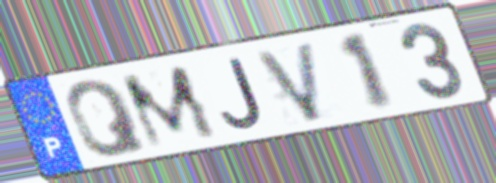1: (337, 29, 396, 115)
3: (399, 19, 466, 102)
J: (219, 55, 268, 132)
M: (117, 61, 223, 153)
Q: (62, 76, 152, 160)
V: (251, 38, 327, 126)
